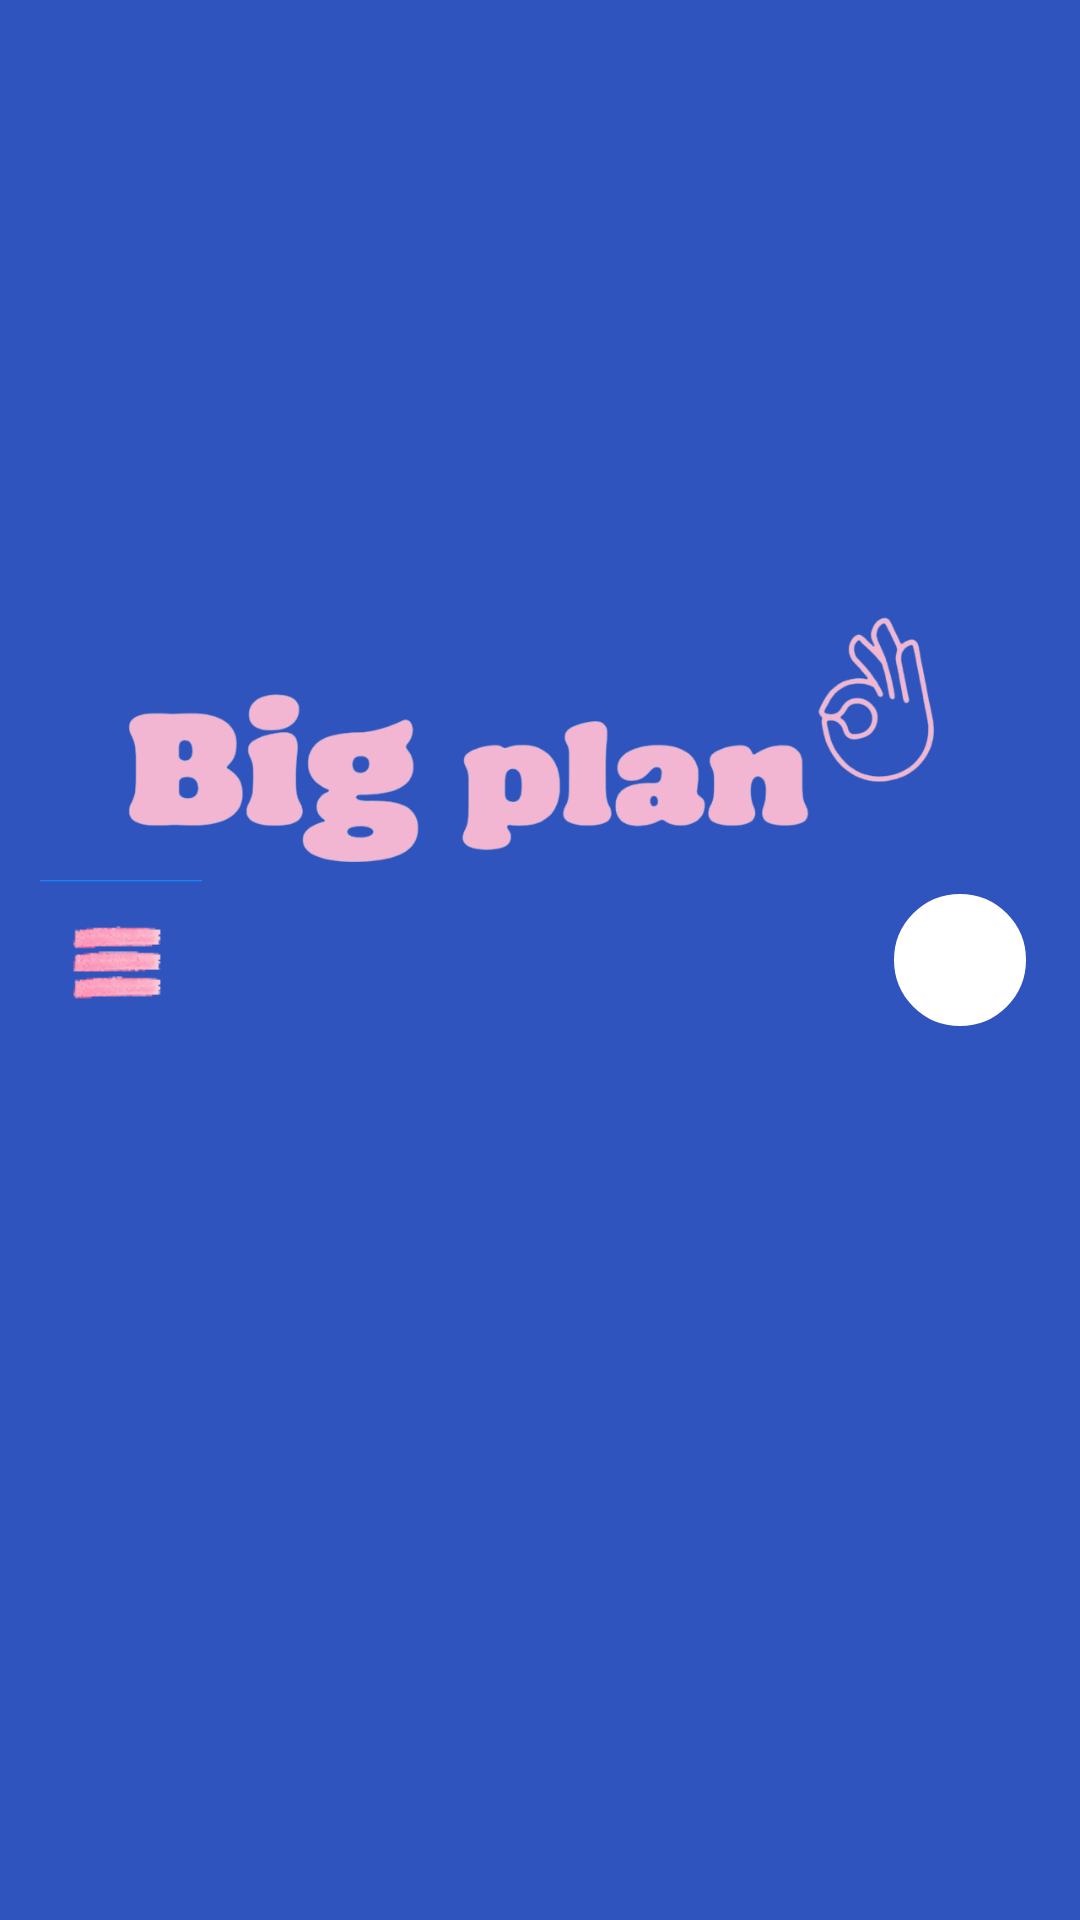

Icon click points for this 1080w x 1920h phone screenshot, format (x,y):
Menú: (121,939)
